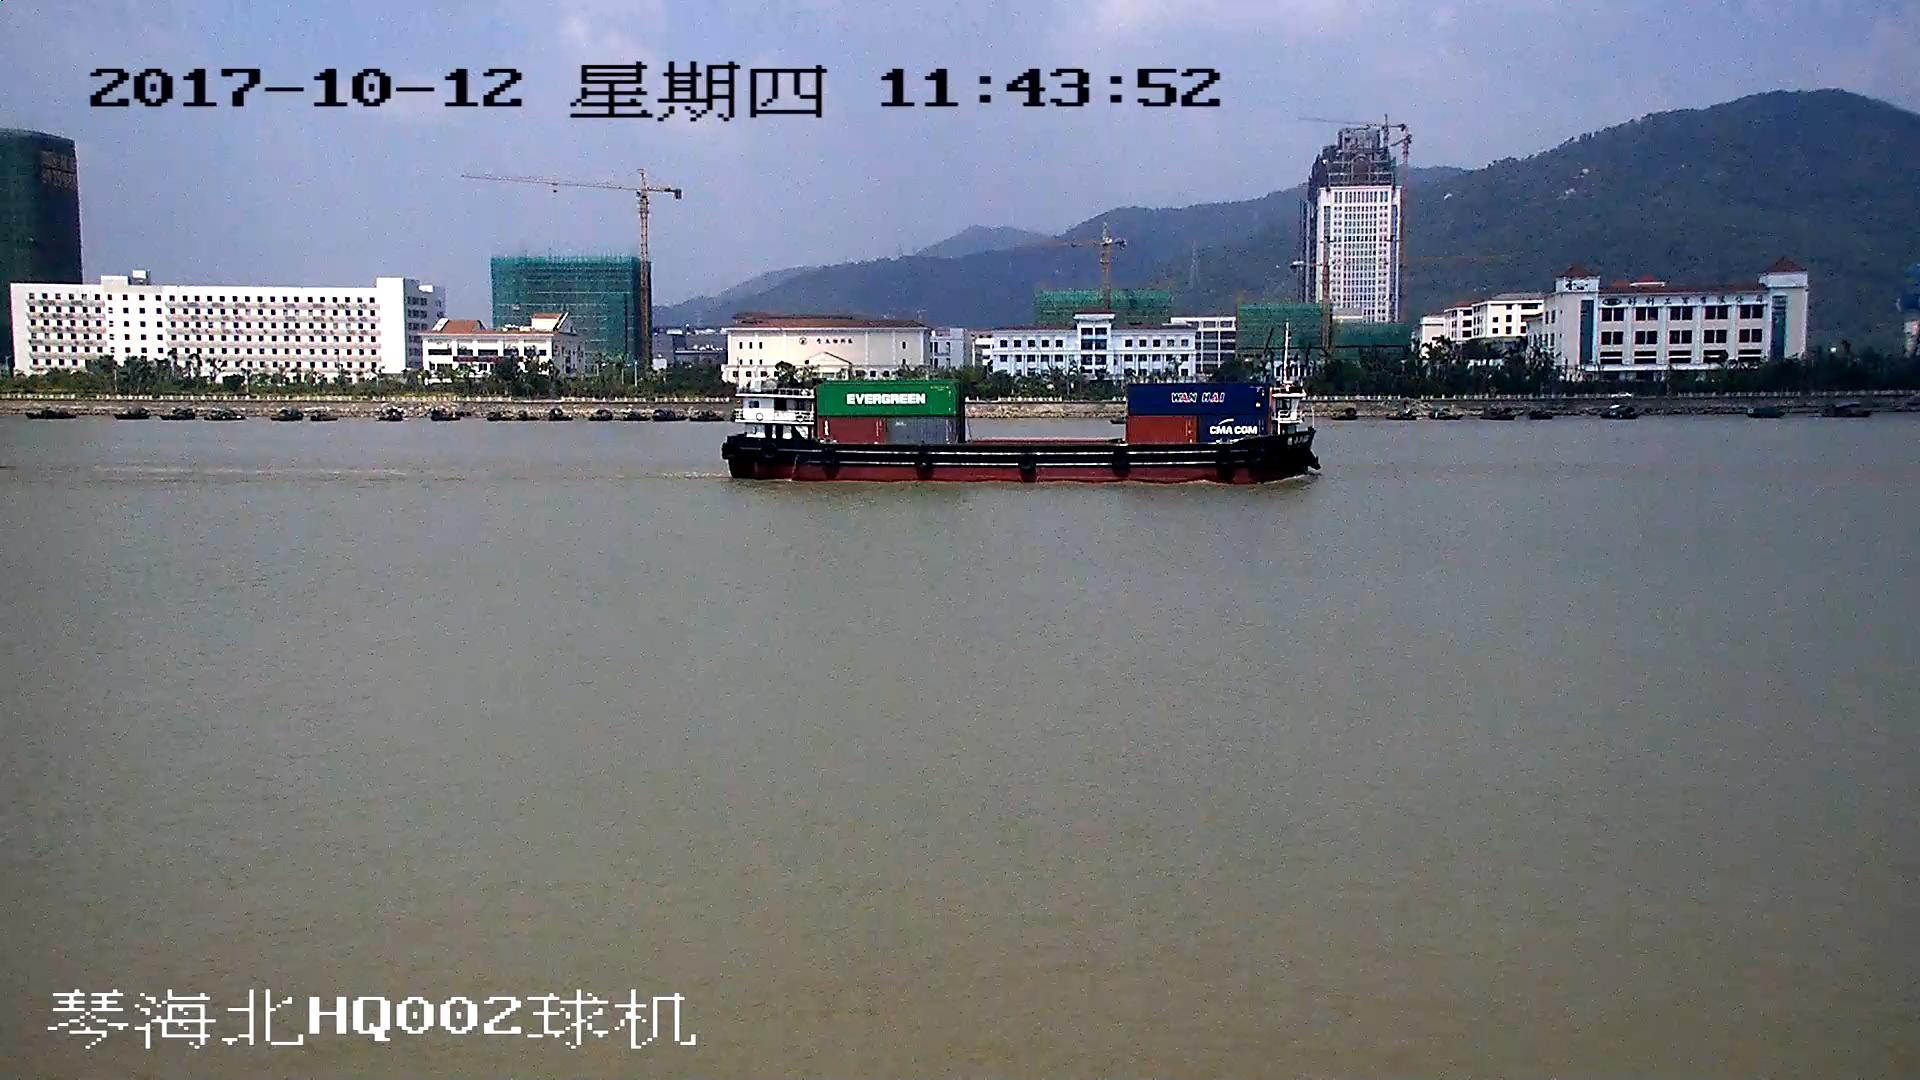container ship: (725, 375, 1315, 487)
